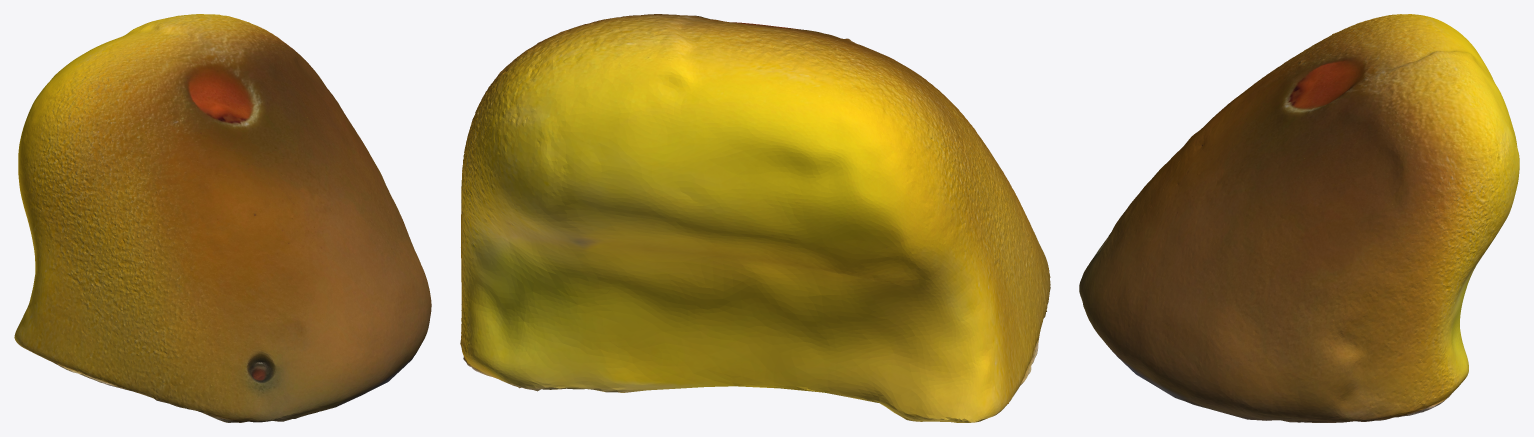
The model's file is Teknik_BigBullies_3.glb.
3 views of the same model, side by side, from view 1: azimuth 30°, elevation 25°; view 2: azimuth 150°, elevation 25°; view 3: azimuth 270°, elevation 25° (orthographic). The views are drawn at different scales.
Bounding box in the file's own units: 0.9199 × 0.6536 × 0.9045.
1 material, 1 textured.
